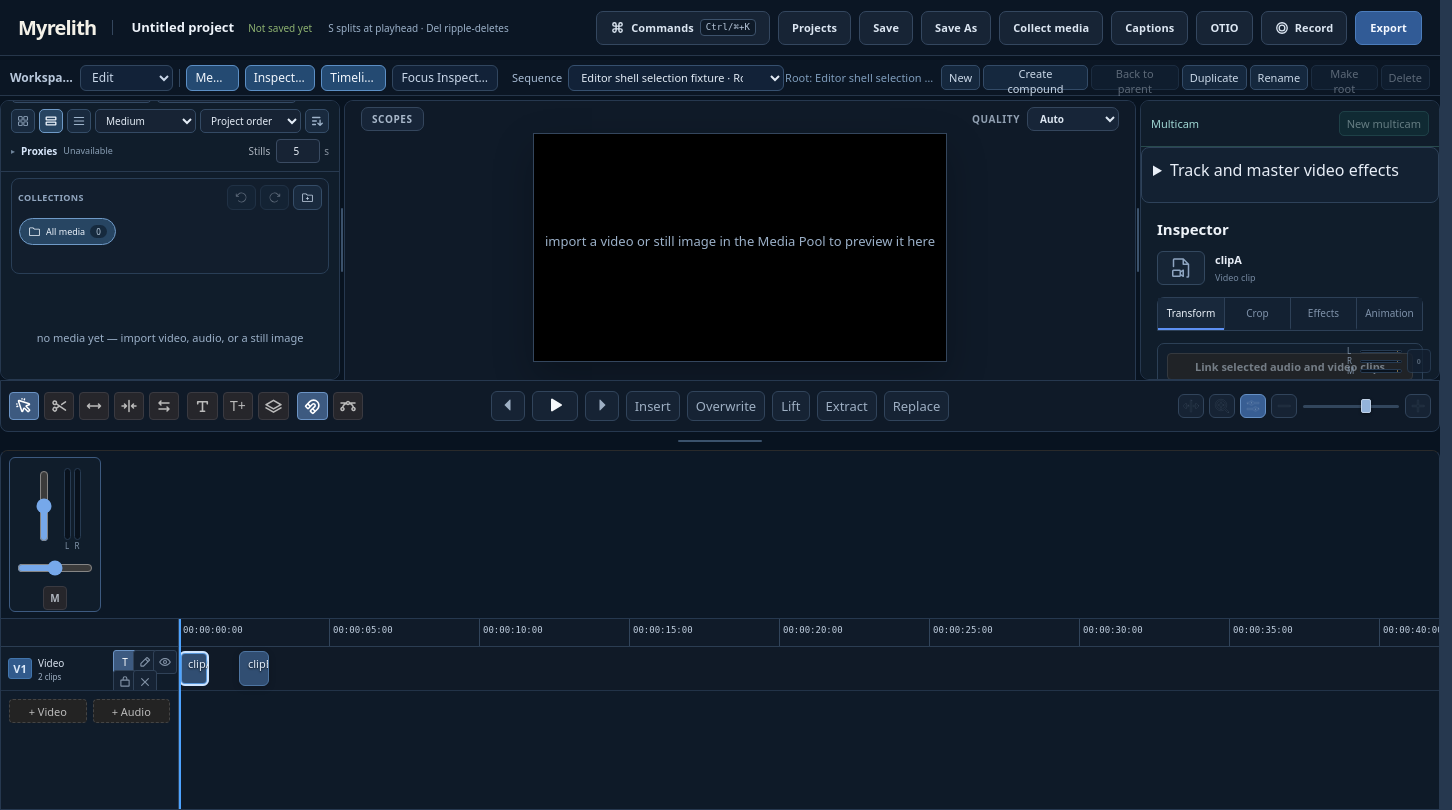
it: EditorShell › docks Animation with timeline tools and opens it without changing the project or clip selection
(page scrolled)
Click the button named "Animation".
click(348, 406)  # box [333,392,363,420]
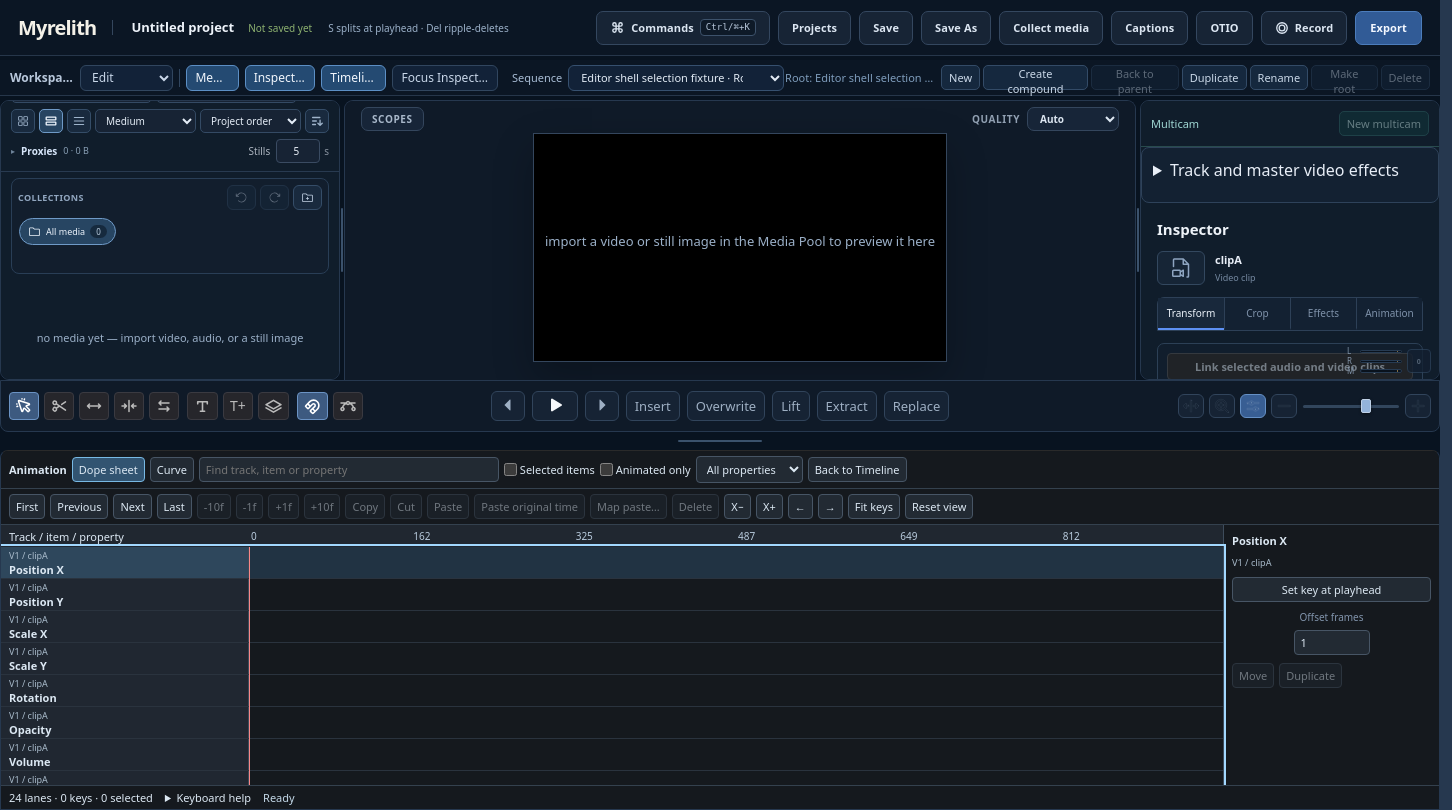
Check: the element named "Animation workspace" is shown, box [1,451,1439,809]
